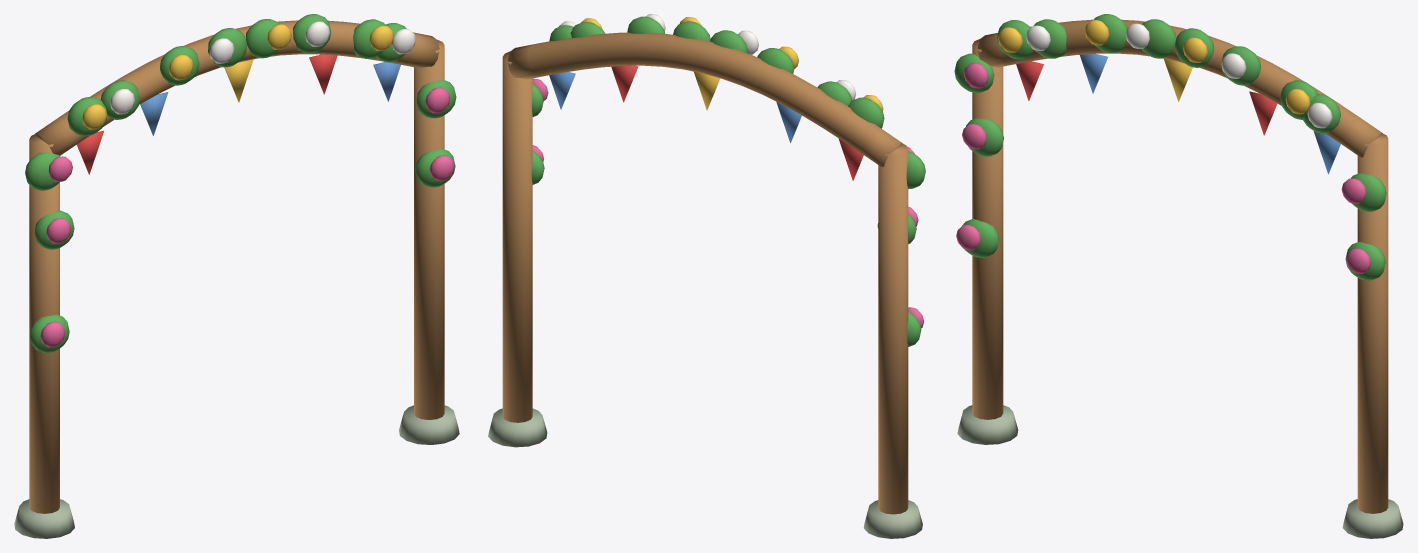
File: festival-arch.glb
The picture shows the model from 3 angles, left to right: view 1: azimuth 30°, elevation 25°; view 2: azimuth 150°, elevation 25°; view 3: azimuth 330°, elevation 25°; orthographic projection. The views are drawn at different scales.
Parts seen in each view (by area): view 1: arch; view 2: arch; view 3: arch.
Part boxes in pixels (x1=…): arch: x1=14, y1=14, x2=459, y2=538; arch: x1=488, y1=14, x2=925, y2=538; arch: x1=954, y1=14, x2=1403, y2=538.
Bounding box in the file's own units: 2.95 × 2.96 × 0.39.
